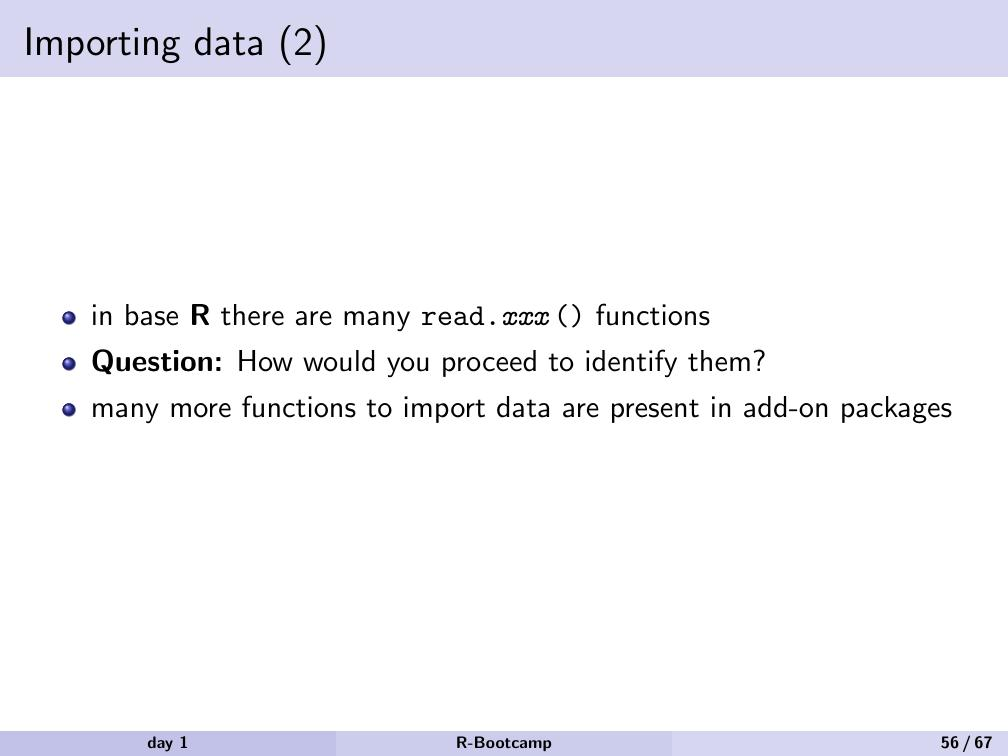Title: (15, 14, 335, 73)
